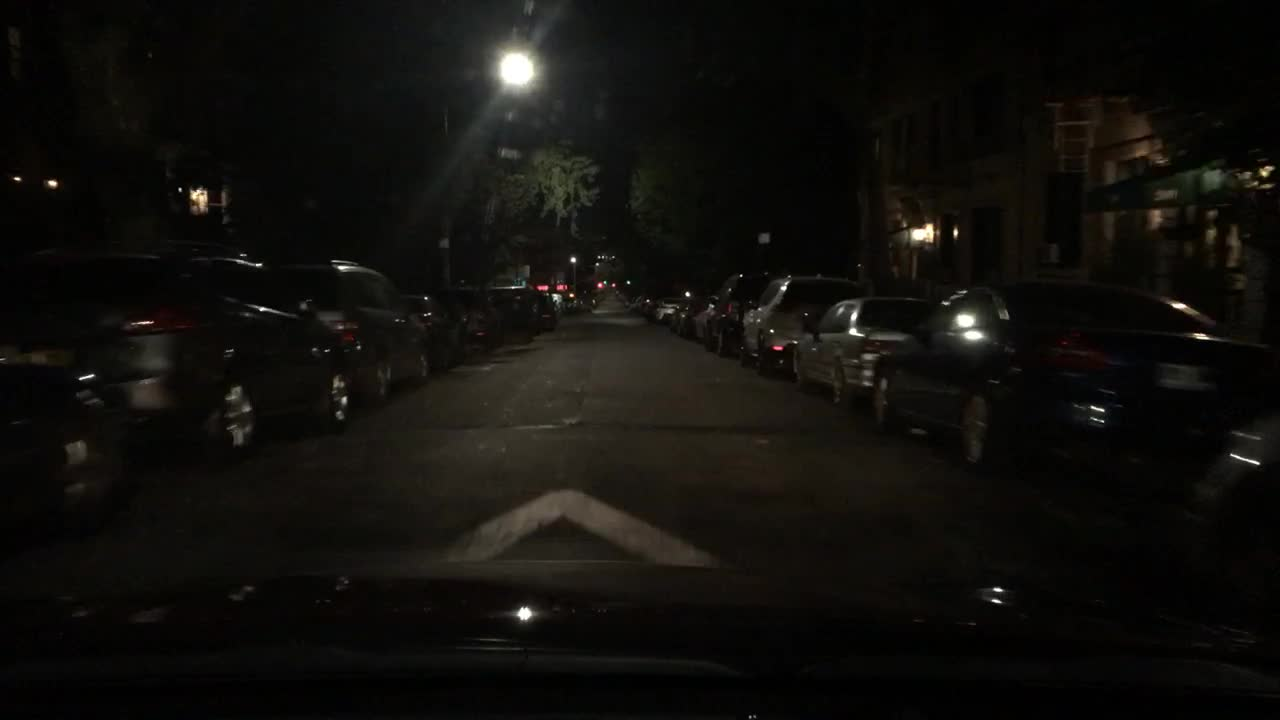car: (867, 271, 1278, 488), (64, 245, 363, 457), (0, 319, 132, 540), (278, 254, 430, 407), (1176, 404, 1278, 606), (787, 293, 938, 409), (736, 273, 862, 376), (704, 270, 780, 357), (402, 292, 465, 373), (439, 280, 506, 347), (485, 280, 548, 337), (426, 290, 475, 358), (665, 295, 712, 338), (686, 300, 714, 343), (647, 295, 685, 325), (556, 290, 586, 314), (539, 288, 556, 329), (636, 295, 658, 318), (548, 291, 564, 315), (629, 294, 649, 313), (580, 290, 598, 309), (590, 287, 605, 302), (619, 294, 632, 305), (613, 287, 623, 295)
